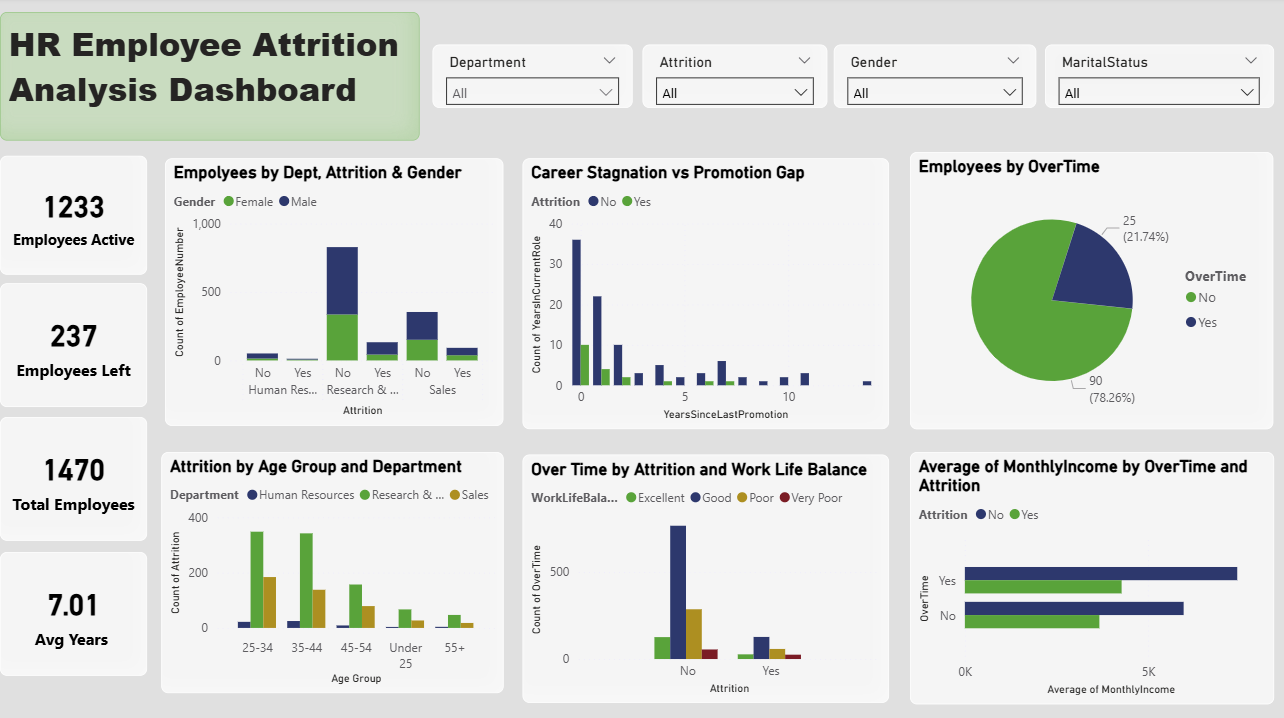

Layout of this report page (visuals, bound fields, positions):
{"tool":"powerbi","page":{"name":"Page 1","canvas":[1280,720],"ordinal":0},"visuals":[{"type":"clusteredColumnChart","title":"Career Stagnation vs Promotion Gap","fields":{"Series":["WA_Fn-UseC_-HR-Employee-Attrition.Attrition"],"Category":["WA_Fn-UseC_-HR-Employee-Attrition.YearsSinceLastPromotion"],"Y":["CountNonNull(WA_Fn-UseC_-HR-Employee-Attrition.YearsInCurrentRole)"]},"box":[520,160.5,364.5,269.9],"z":0},{"type":"clusteredColumnChart","title":"Attrition by Age Group and Department","fields":{"Y":["CountNonNull(WA_Fn-UseC_-HR-Employee-Attrition.Attrition)"],"Category":["WA_Fn-UseC_-HR-Employee-Attrition.Age Group"],"Series":["WA_Fn-UseC_-HR-Employee-Attrition.Department"]},"box":[160.5,452.8,340.8,240.1],"z":1000},{"type":"columnChart","title":"Empolyees by Dept, Attrition & Gender","fields":{"Category":["WA_Fn-UseC_-HR-Employee-Attrition.Department","WA_Fn-UseC_-HR-Employee-Attrition.Attrition"],"Series":["WA_Fn-UseC_-HR-Employee-Attrition.Gender"],"Y":["CountNonNull(WA_Fn-UseC_-HR-Employee-Attrition.EmployeeNumber)"]},"box":[164.2,160.5,337.1,266.2],"z":2000},{"type":"slicer","fields":{"Values":["WA_Fn-UseC_-HR-Employee-Attrition.Department"]},"box":[430.4,47.3,199,63.4],"z":3000},{"type":"clusteredColumnChart","title":" Over Time by Attrition and Work Life Balance ","fields":{"Category":["WA_Fn-UseC_-HR-Employee-Attrition.Attrition"],"Y":["CountNonNull(WA_Fn-UseC_-HR-Employee-Attrition.OverTime)"],"Series":["WA_Fn-UseC_-HR-Employee-Attrition.WorkLifeBalance Label"]},"box":[520,455.3,364.5,247.5],"z":4000},{"type":"clusteredBarChart","fields":{"Category":["WA_Fn-UseC_-HR-Employee-Attrition.OverTime"],"Series":["WA_Fn-UseC_-HR-Employee-Attrition.Attrition"],"Y":["Avg(WA_Fn-UseC_-HR-Employee-Attrition.MonthlyIncome)"]},"box":[905.7,452.8,362.3,251.1],"z":5000},{"type":"slicer","fields":{"Values":["WA_Fn-UseC_-HR-Employee-Attrition.Attrition"]},"box":[639.4,47.3,184.1,63.4],"z":6000},{"type":"pieChart","title":"Employees  by OverTime","fields":{"Category":["WA_Fn-UseC_-HR-Employee-Attrition.OverTime"],"Y":["CountNonNull(WA_Fn-UseC_-HR-Employee-Attrition.EmployeeNumber)"]},"box":[905.6,154.3,362,276.2],"z":7000},{"type":"slicer","fields":{"Values":["WA_Fn-UseC_-HR-Employee-Attrition.Gender"]},"box":[829.7,47.3,201.5,63.4],"z":8000},{"type":"slicer","fields":{"Values":["WA_Fn-UseC_-HR-Employee-Attrition.MaritalStatus"]},"box":[1040.1,46.7,227.8,63.1],"z":9000},{"type":"card","fields":{"Values":["WA_Fn-UseC_-HR-Employee-Attrition.Employees Left"]},"box":[0,284.9,146.8,123.2],"z":12000},{"type":"card","fields":{"Values":["WA_Fn-UseC_-HR-Employee-Attrition.Employees Active"]},"box":[0,158,146.8,118.2],"z":13000},{"type":"textbox","box":[0,14.9,418,128.1],"z":14000},{"type":"card","title":"Total Empoloyees","fields":{"Values":["CountNonNull(WA_Fn-UseC_-HR-Employee-Attrition.EmployeeNumber)"]},"box":[0,418,146.8,123.2],"z":14001},{"type":"card","title":"Total Empoloyees","fields":{"Values":["Avg(WA_Fn-UseC_-HR-Employee-Attrition.Avg Years at Company)"]},"box":[0,552.3,146.8,123.2],"z":14002}]}

Visuals, with their boxes in screenshot pixels (x1, y1, x2, y2), scaled from the page's 1280x720 canvas onto the 1284x718 screenshot:
"Career Stagnation vs Promotion Gap" clusteredColumnChart: BBox(522, 160, 887, 429)
"Attrition by Age Group and Department" clusteredColumnChart: BBox(161, 452, 503, 691)
"Empolyees by Dept, Attrition & Gender" columnChart: BBox(165, 160, 503, 426)
slicer - WA_Fn-UseC_-HR-Employee-Attrition.Department: BBox(432, 47, 631, 110)
" Over Time by Attrition and Work Life Balance " clusteredColumnChart: BBox(522, 454, 887, 701)
clusteredBarChart - WA_Fn-UseC_-HR-Employee-Attrition.OverTime x WA_Fn-UseC_-HR-Employee-Attrition.Attrition: BBox(909, 452, 1272, 702)
slicer - WA_Fn-UseC_-HR-Employee-Attrition.Attrition: BBox(641, 47, 826, 110)
"Employees  by OverTime" pieChart: BBox(908, 154, 1272, 429)
slicer - WA_Fn-UseC_-HR-Employee-Attrition.Gender: BBox(832, 47, 1034, 110)
slicer - WA_Fn-UseC_-HR-Employee-Attrition.MaritalStatus: BBox(1043, 47, 1272, 109)
card - WA_Fn-UseC_-HR-Employee-Attrition.Employees Left: BBox(0, 284, 147, 407)
card - WA_Fn-UseC_-HR-Employee-Attrition.Employees Active: BBox(0, 158, 147, 275)
textbox: BBox(0, 15, 419, 143)
"Total Empoloyees" card: BBox(0, 417, 147, 540)
"Total Empoloyees" card: BBox(0, 551, 147, 674)
